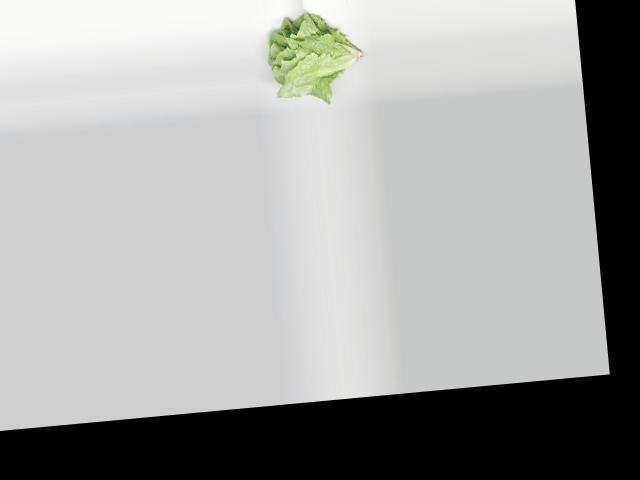lettuce: (259, 1, 374, 107)
